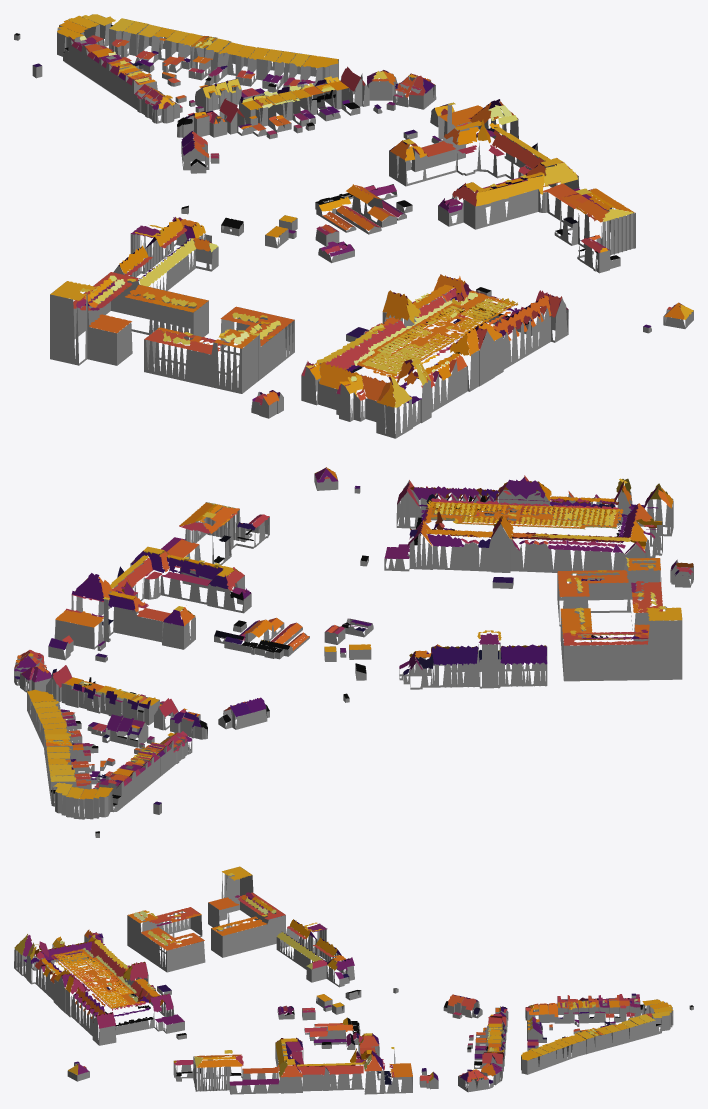
The model's file is campus_85000_447000.glb.
3 renders of one model, top to bottom at view 1: azimuth 30°, elevation 25°; view 2: azimuth 150°, elevation 25°; view 3: azimuth 270°, elevation 25°, orthographic. The views are drawn at different scales.
Bounding box in the file's own units: 275 × 31.23 × 429.
